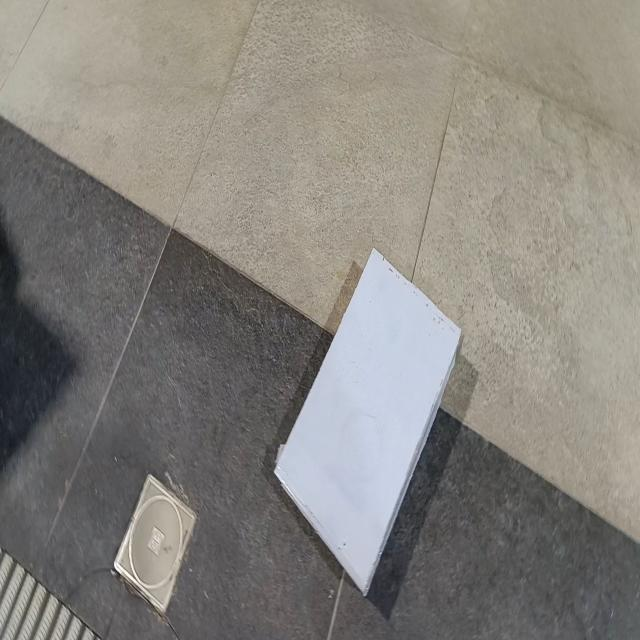Cuboid: (273, 244, 462, 596)
